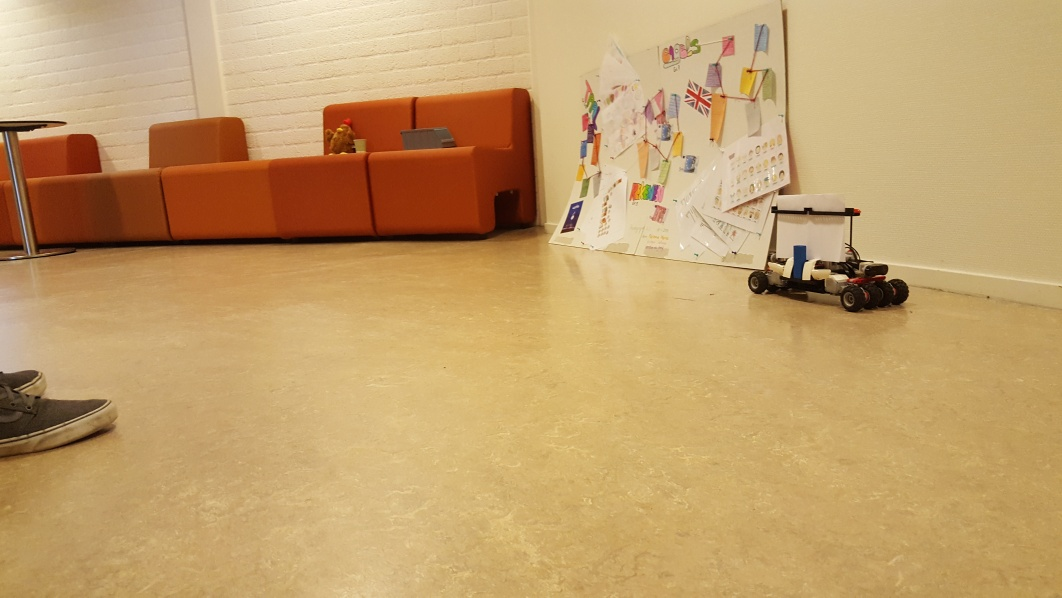car: (745, 194, 911, 312)
chicken: (325, 118, 355, 156)
cup: (350, 136, 369, 153)
tray: (396, 129, 458, 151)
